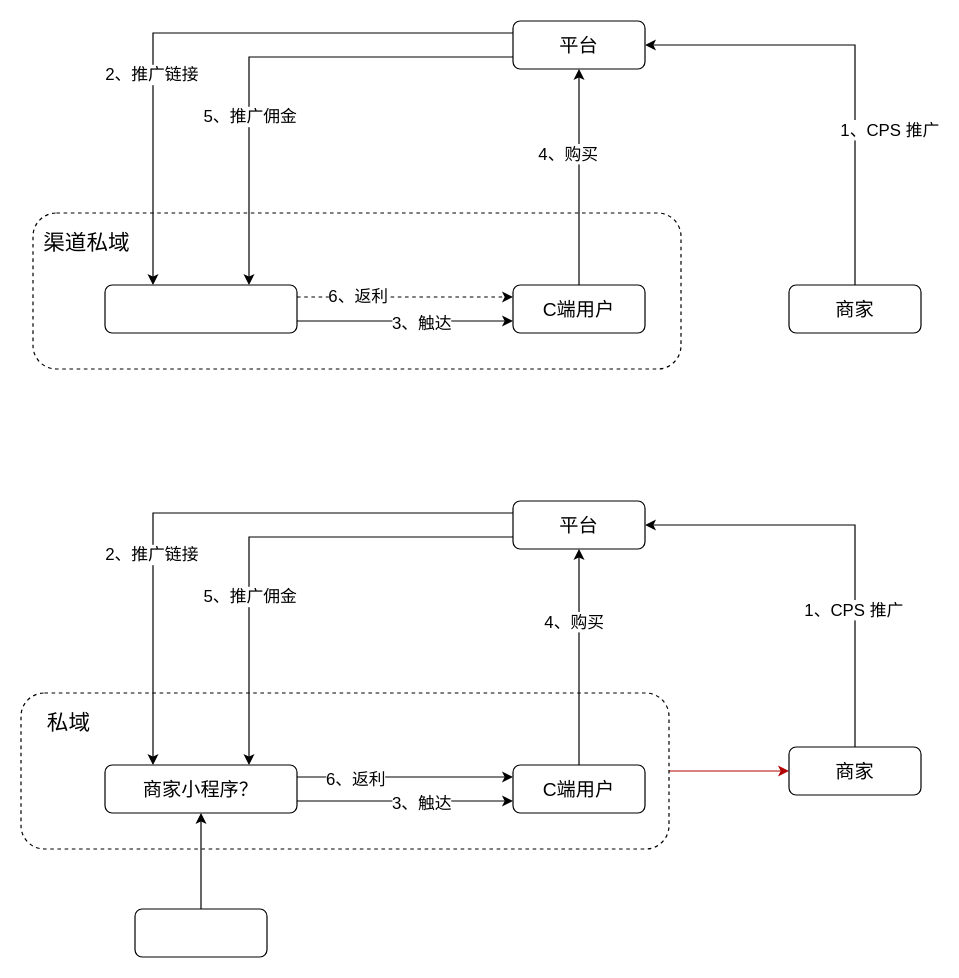
Some shapes in this 959 by 978 pixel diagram are drawn without their labels. Each missing label, with the centre of its shape:
晓多: pixel 200 932
渠道推广 （淘宝客、京东客）: pixel 200 308
